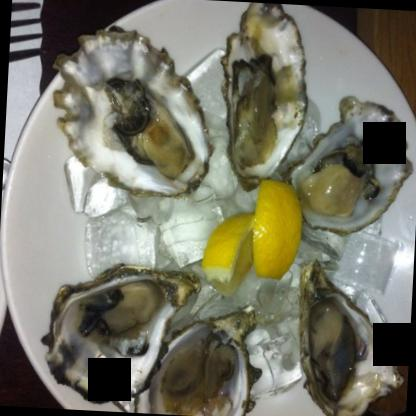oyster: (50, 27, 212, 196), (38, 264, 194, 402), (289, 266, 408, 415), (219, 4, 314, 184), (296, 99, 410, 234)
